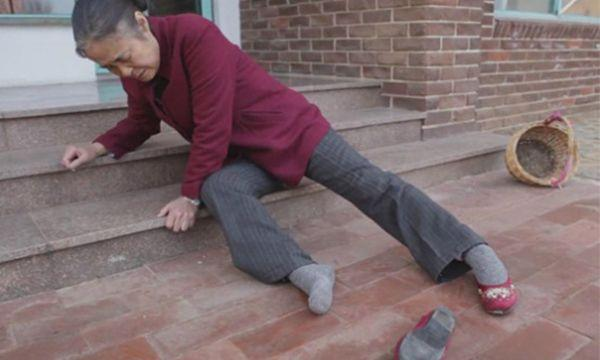falling: (58, 5, 499, 312)
